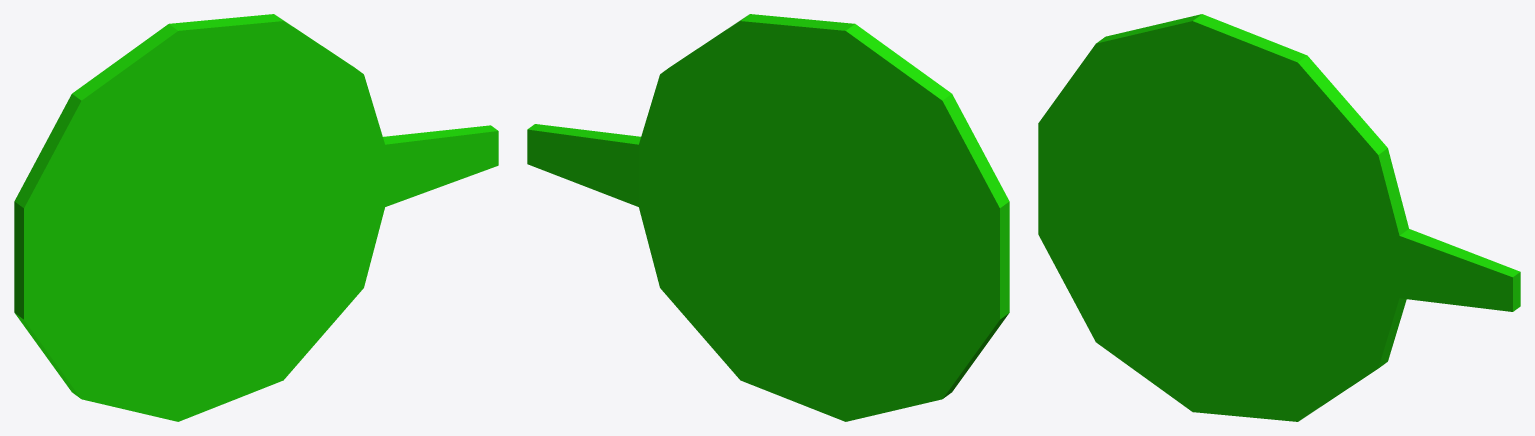
File: SM_Teapot_01_Cap_01_Collider.fbx
The picture shows the model from 3 angles, left to right: view 1: azimuth 30°, elevation 25°; view 2: azimuth 150°, elevation 25°; view 3: azimuth 330°, elevation 25°; orthographic projection.
Parts seen in each view (by area): view 1: SM_Teapot_01_Cap_01_Collider; view 2: SM_Teapot_01_Cap_01_Collider; view 3: SM_Teapot_01_Cap_01_Collider.
Boxes of the visible parts, x1,y1,x2,y2 form: SM_Teapot_01_Cap_01_Collider: [14, 14, 498, 421]; SM_Teapot_01_Cap_01_Collider: [527, 14, 1009, 421]; SM_Teapot_01_Cap_01_Collider: [1038, 14, 1520, 421].
Bounding box in the file's own units: 26.5 × 20.87 × 0.9313.
